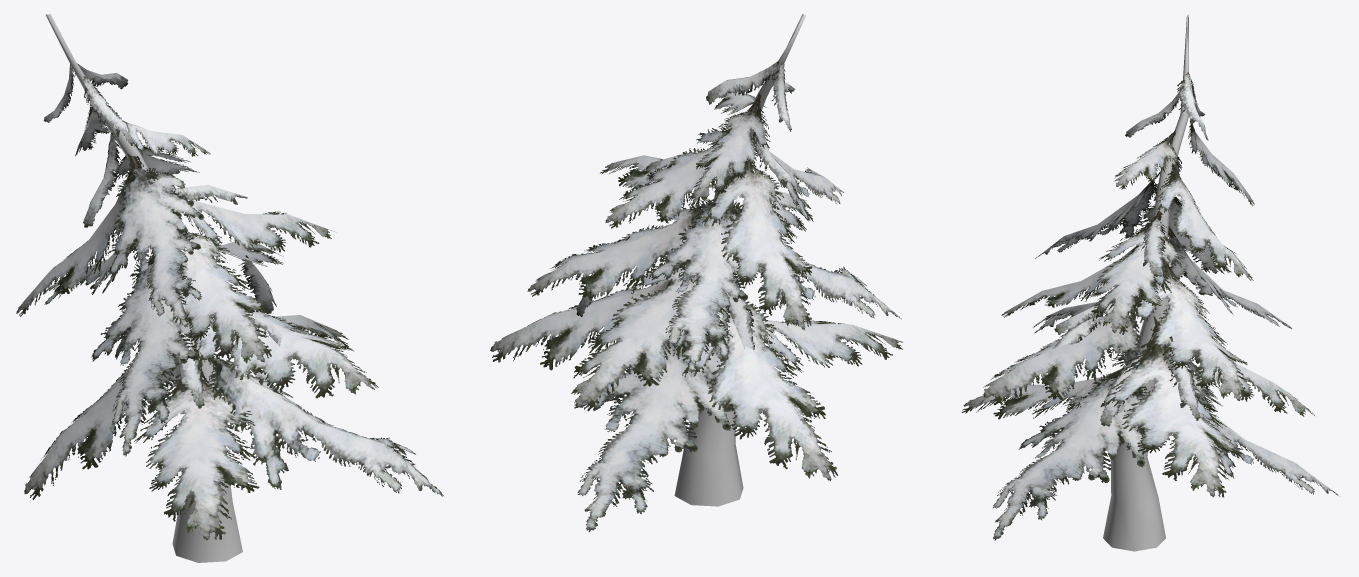
The model's file is Tree02.FBX.
3 renders of one model, left to right at view 1: azimuth 30°, elevation 25°; view 2: azimuth 150°, elevation 25°; view 3: azimuth 270°, elevation 25°, orthographic. The views are drawn at different scales.
Parts seen in each view (by area): view 1: tree01_3, tree01_4; view 2: tree01_3, tree01_4; view 3: tree01_3, tree01_4.
Boxes of the visible parts, x1,y1,x2,y2 form: tree01_3: (16,63,443,540); tree01_4: (46,14,242,562); tree01_3: (490,60,903,532); tree01_4: (674,14,805,506); tree01_3: (961,72,1338,540); tree01_4: (1103,14,1188,551).
Size of the model in its own units: 500 by 715 by 563.
